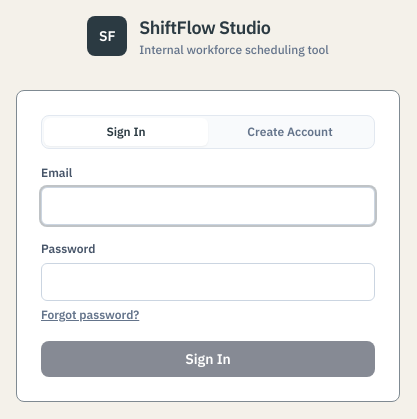
Scenario: LoginView › hides "Forgot password?" in Create Account mode
The width and height of the screenshot is (417, 419).
Click the button "Create Account" at (290,132), box [208, 118, 372, 146]
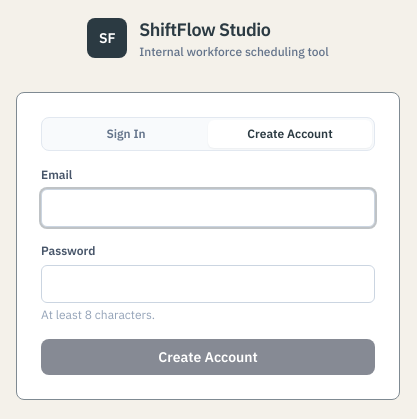
Check: the button "Forgot password" is gone
